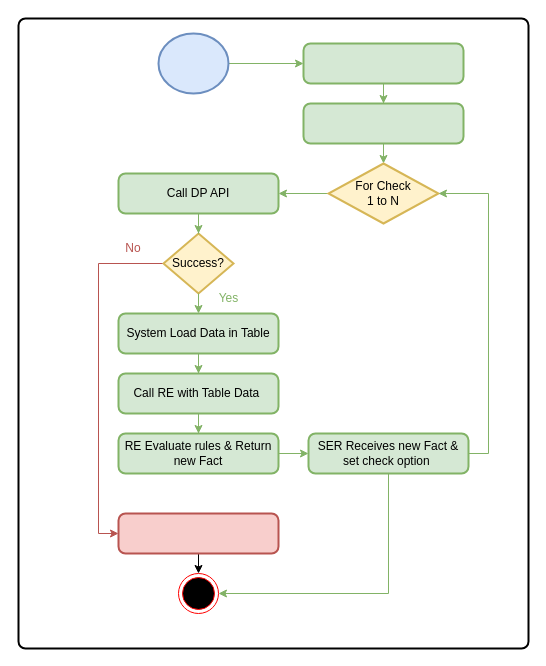
This 546x666 diagram has some shape labels left out. The shapes that lost their labels are listed below. From the top down, each one's centre as x and y in pixels, then its label:
[193,63]: Start
[383,63]: User Open Work Bench Checklist View
[383,123]: 'Evaluate all Checks' API gets invoked
[198,533]: Error Message
